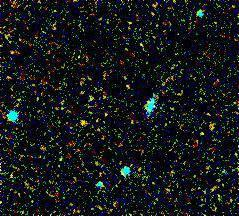star: (69, 105, 99, 135)
